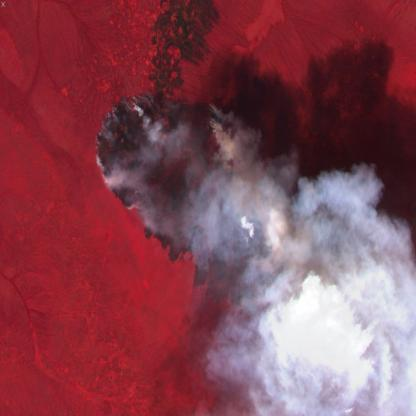fire: (95, 83, 292, 324)
